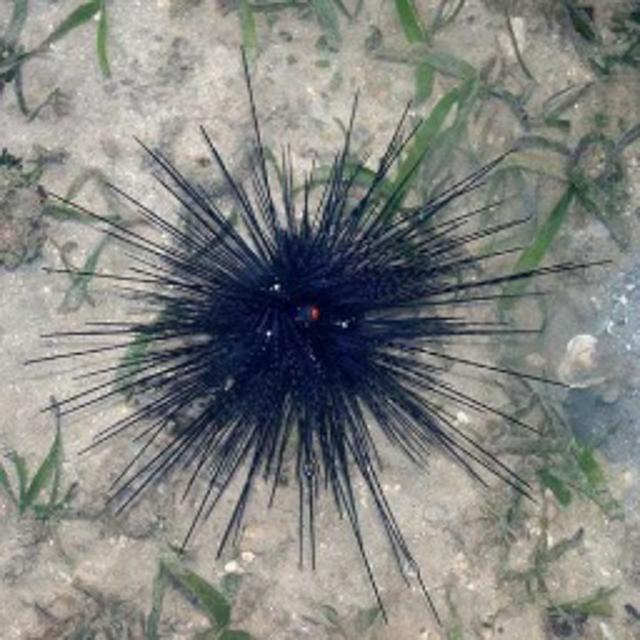Urchin: (53, 40, 595, 590)
